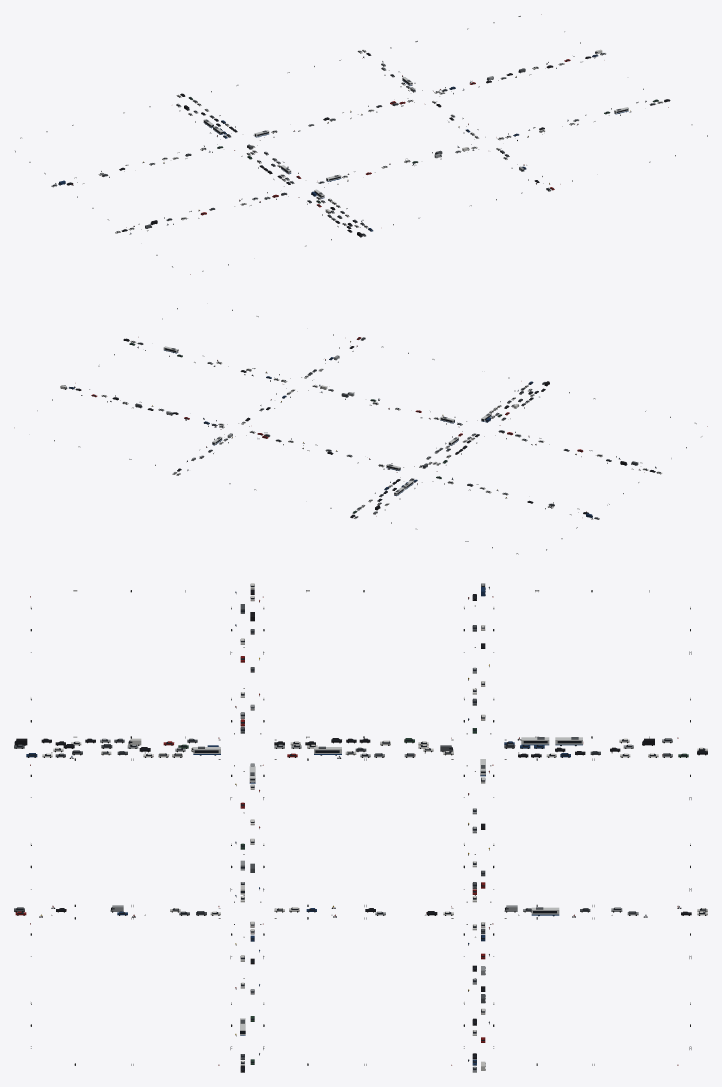
File: stadt.glb
3 views of the same model, one above another, from view 1: azimuth 30°, elevation 25°; view 2: azimuth 150°, elevation 25°; view 3: azimuth 270°, elevation 25° (orthographic). The views are drawn at different scales.
Parts seen in each view (by area): view 1: stadt; view 2: stadt; view 3: stadt.
Boxes of the visible parts, box(x1,y1,x2,y2) form: stadt: box(15, 14, 707, 274); stadt: box(14, 308, 707, 554); stadt: box(14, 583, 707, 1072).
Bounding box in the file's own units: 507 × 3.4 × 305.
